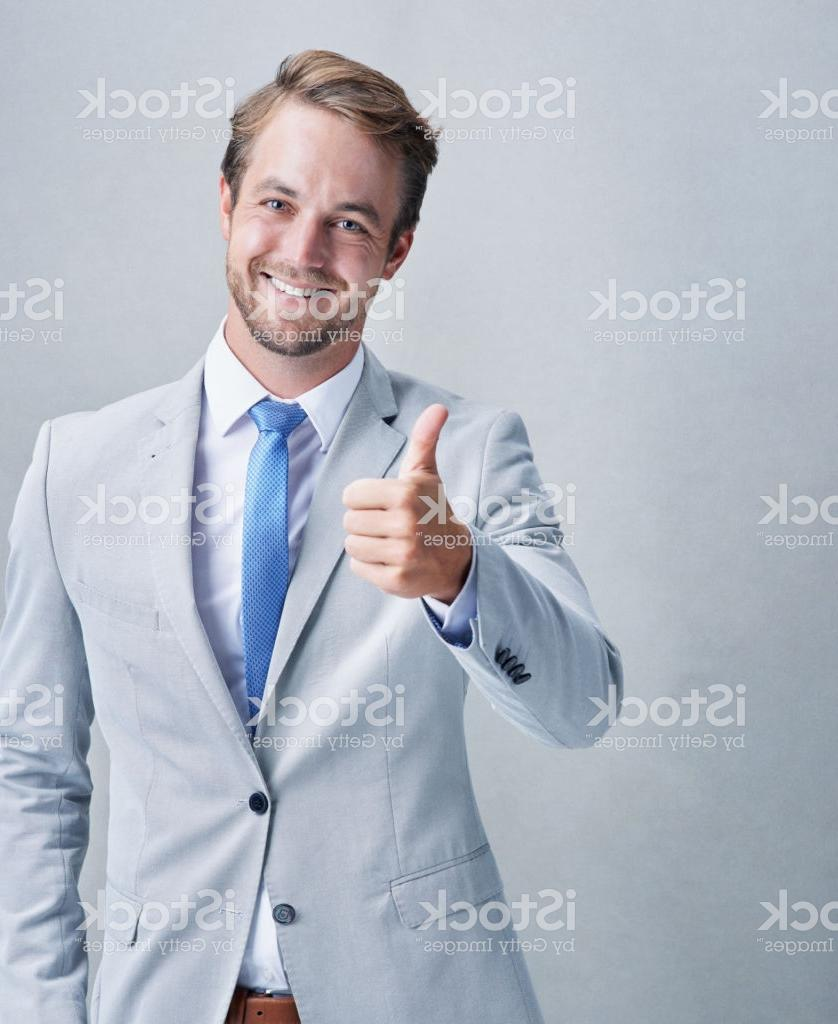thumbsup: (337, 401, 456, 600)
